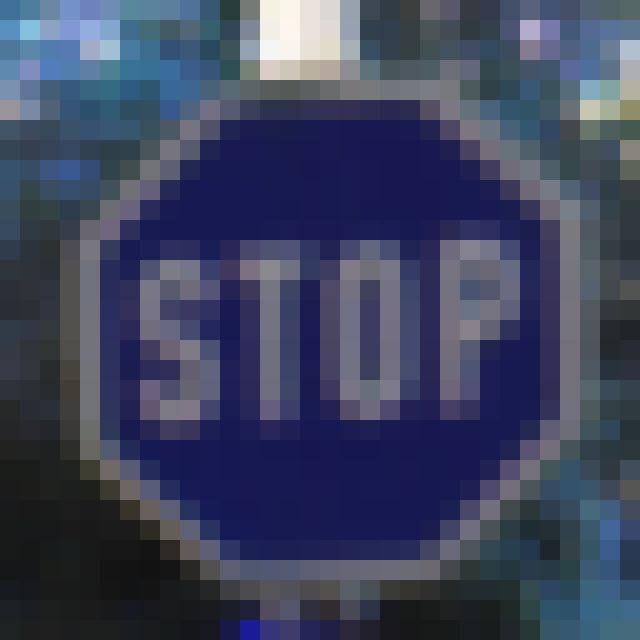STOP: (112, 92, 549, 565)
